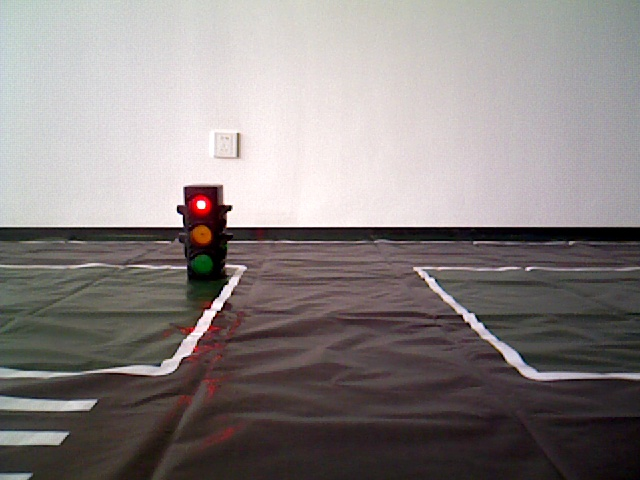red: (185, 187, 220, 283)
